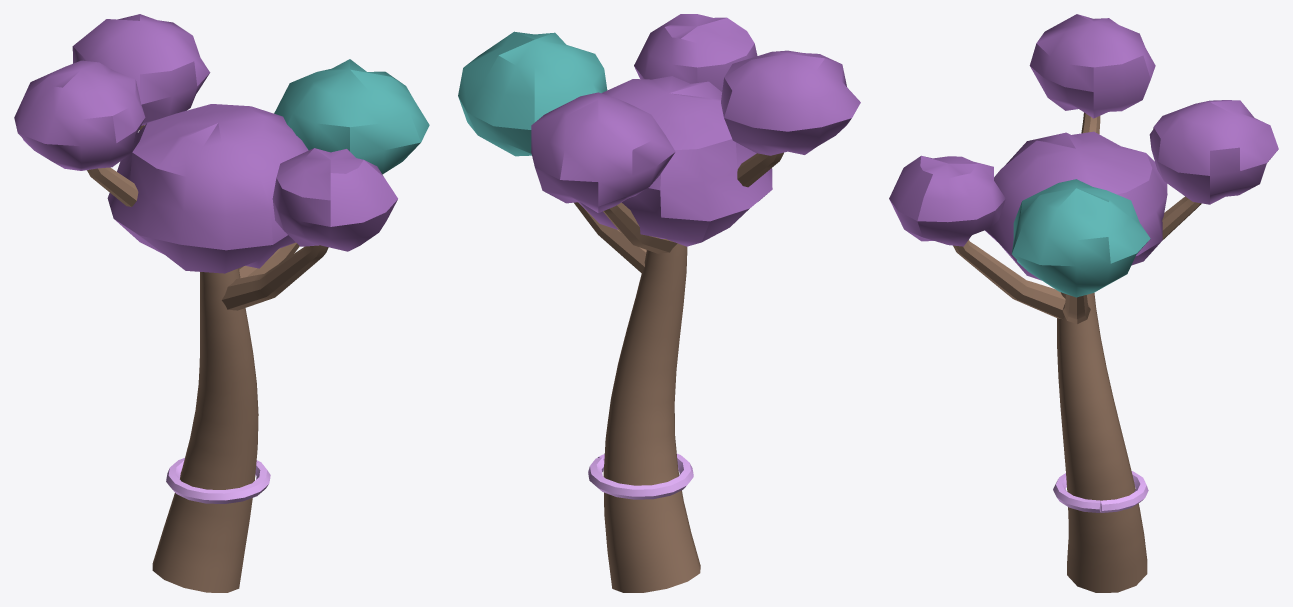
Rendered from TwistedTree_B.fbx.
3 renders of one model, left to right at view 1: azimuth 30°, elevation 25°; view 2: azimuth 150°, elevation 25°; view 3: azimuth 270°, elevation 25°, orthographic. The views are drawn at different scales.
Parts seen in each view (by area): view 1: TwistedTree_B; view 2: TwistedTree_B; view 3: TwistedTree_B.
Part boxes in pixels (<box>): TwistedTree_B: <box>14,14,429,592</box>; TwistedTree_B: <box>458,14,860,592</box>; TwistedTree_B: <box>889,14,1278,592</box>.
Size of the model in its own units: 10.21 by 13.94 by 9.85.
